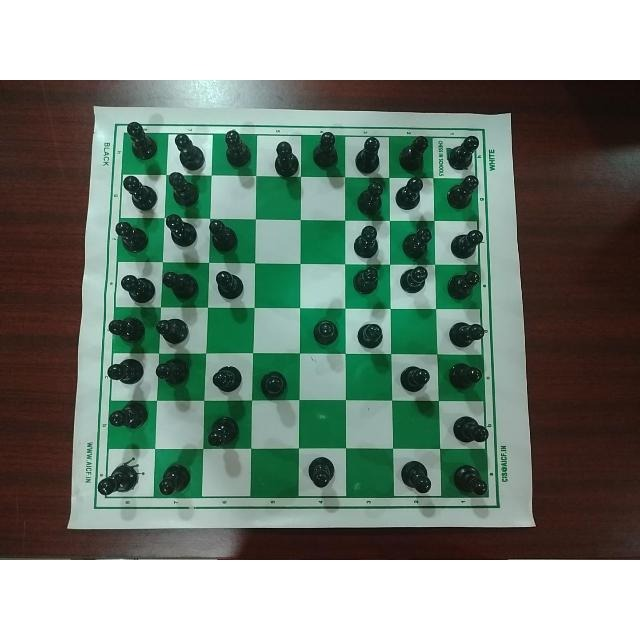black-pawn: (93, 460, 140, 498), (448, 461, 492, 499), (121, 117, 158, 161), (450, 407, 492, 444), (396, 458, 434, 498), (117, 268, 157, 304), (161, 265, 201, 301), (220, 128, 254, 170), (108, 400, 152, 432), (121, 174, 158, 212), (204, 414, 243, 450), (444, 315, 487, 347), (447, 225, 485, 261), (155, 460, 190, 499), (397, 134, 431, 174), (445, 173, 482, 209), (155, 357, 195, 390), (106, 314, 147, 346), (166, 171, 202, 207), (164, 214, 200, 250), (113, 219, 151, 253), (106, 355, 147, 386), (304, 454, 340, 489), (172, 134, 206, 170), (447, 135, 481, 171), (207, 218, 243, 252), (210, 361, 246, 395), (154, 312, 191, 345), (271, 138, 301, 178), (349, 224, 382, 260), (400, 225, 433, 261), (312, 129, 340, 171), (353, 135, 383, 174), (356, 179, 386, 218), (213, 267, 246, 302), (448, 360, 484, 392), (258, 367, 291, 401), (394, 178, 425, 214), (399, 361, 431, 395), (446, 269, 481, 300), (399, 264, 431, 297), (308, 316, 341, 348), (353, 319, 387, 350), (352, 267, 384, 296)
